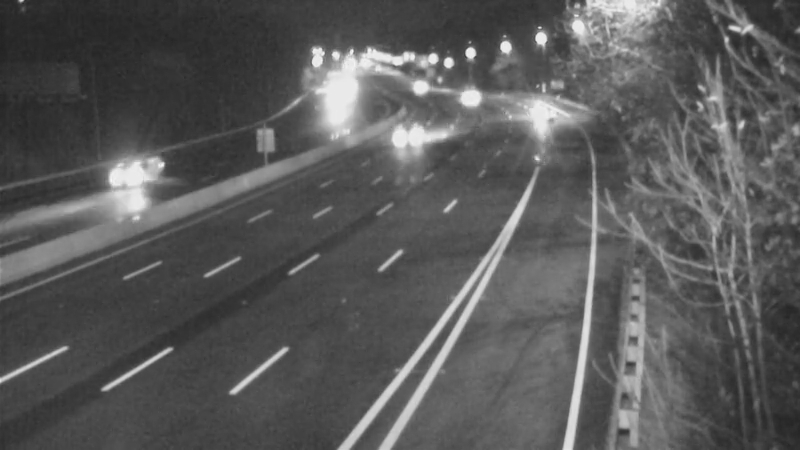vehicle: (94, 134, 174, 214), (387, 57, 437, 107), (439, 72, 489, 122), (516, 81, 566, 131), (384, 109, 434, 159), (307, 82, 357, 132)
